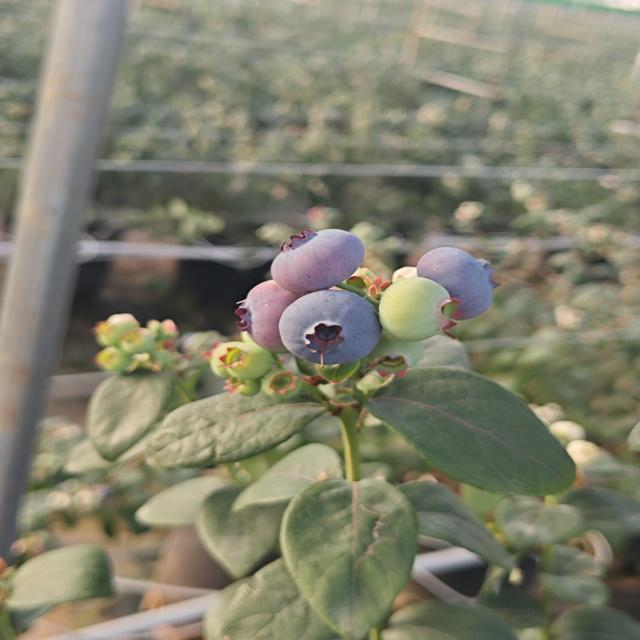ripe: (272, 288, 384, 367), (412, 242, 505, 327), (266, 225, 371, 293)
